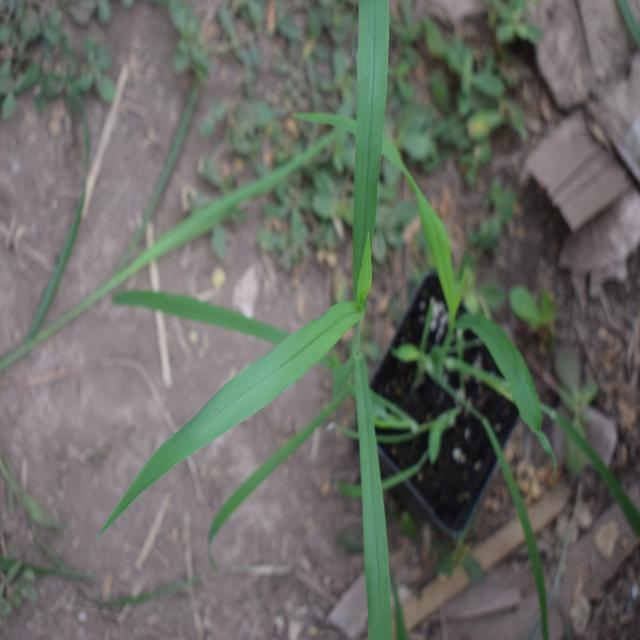crabgrass: (170, 10, 423, 636)
